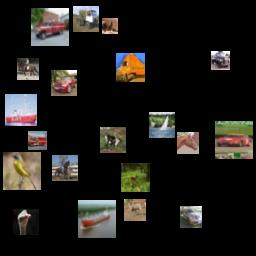automobile: (215, 121, 253, 159), (51, 70, 77, 96), (180, 206, 202, 228)
bird: (3, 152, 41, 190), (13, 209, 39, 235), (102, 18, 118, 34)
deer: (121, 163, 150, 192), (100, 127, 126, 153), (124, 199, 146, 221)
ship: (78, 200, 116, 238), (5, 94, 37, 126), (149, 112, 175, 138)
truck: (31, 8, 69, 46), (116, 53, 145, 82), (73, 6, 99, 32), (211, 51, 230, 70), (28, 131, 47, 150)
